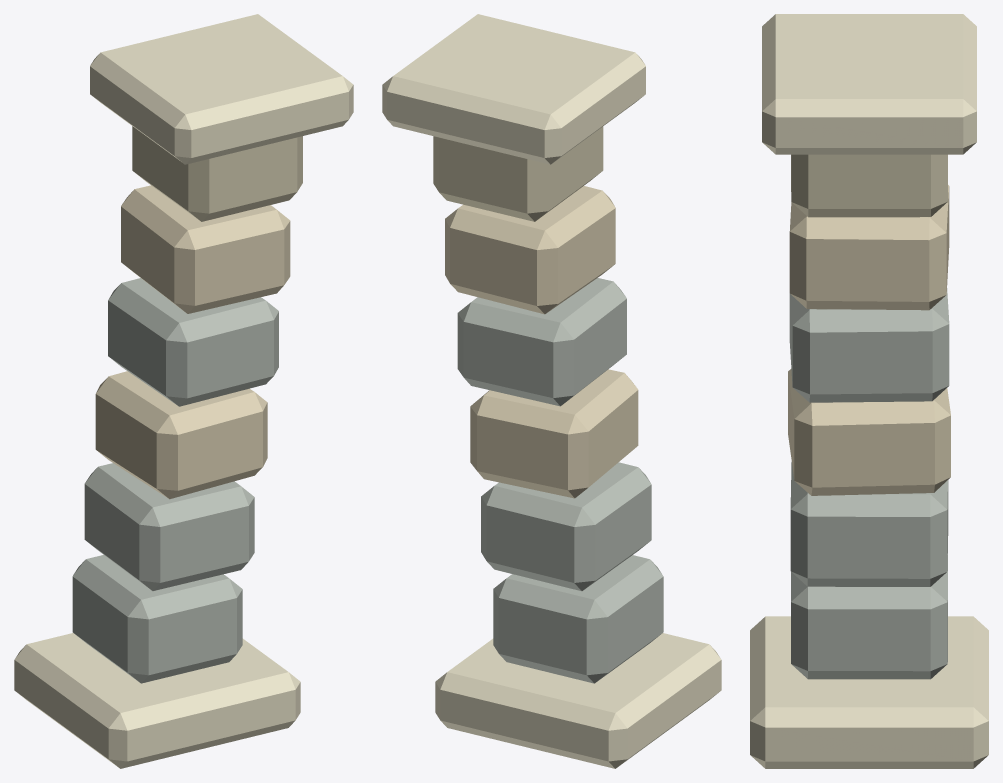
The model's file is pillar_leaning.glb.
3 views of the same model, side by side, from view 1: azimuth 30°, elevation 25°; view 2: azimuth 150°, elevation 25°; view 3: azimuth 270°, elevation 25° (orthographic). The views are drawn at different scales.
Visible parts, largest first — view 1: pillar_leaning; view 2: pillar_leaning; view 3: pillar_leaning.
Boxes of the visible parts, x1=… form: pillar_leaning: x1=14, y1=14, x2=353, y2=768; pillar_leaning: x1=382, y1=14, x2=721, y2=768; pillar_leaning: x1=750, y1=14, x2=988, y2=768.
Size of the model in its own units: 0.935 by 2.27 by 0.7.
